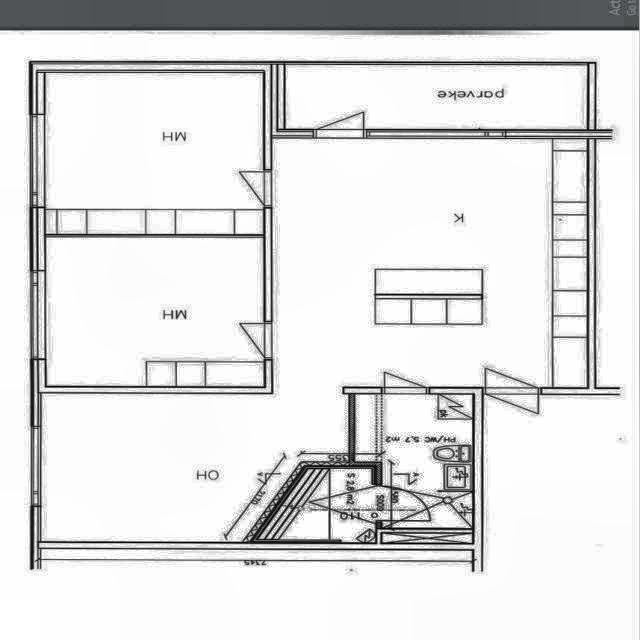room: (45, 237, 265, 386), (45, 73, 264, 209), (285, 65, 587, 129), (355, 394, 473, 530)
